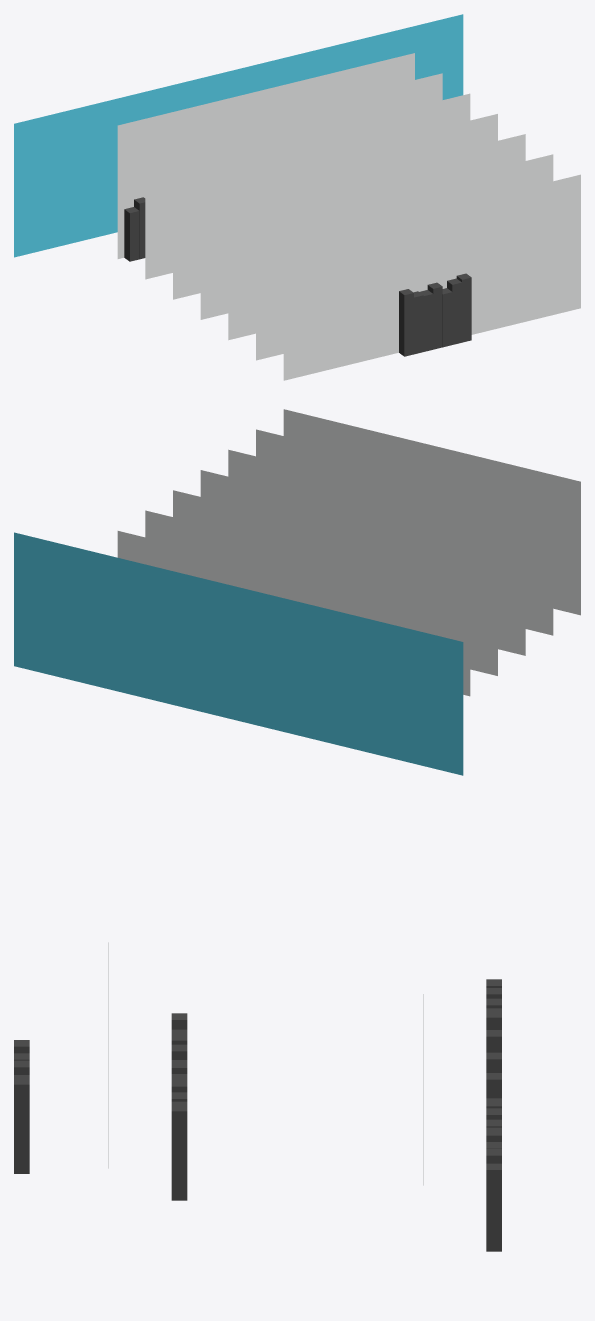
Rendered from asset.glb.
3 views of the same model, one above another, from view 1: azimuth 30°, elevation 25°; view 2: azimuth 150°, elevation 25°; view 3: azimuth 270°, elevation 25° (orthographic). The views are drawn at different scales.
Visible parts, largest first — view 1: 平面 12, 平面 7, 平面 16, 平面 17, 平面 13, 平面 14, 平面, 平面 15, 立方体 23, 立方体 29, 立方体 27, 立方体 20 (+5 smaller); view 2: 平面 7, 平面 13, 平面 14, 平面 12, 平面 16, 平面, 平面 17, 平面 15; view 3: 立方体 51, 立方体 27, 立方体 44.
Boxes of the visible parts, box(x1,y1,x2,y2) form: 平面 12: box(283, 174, 580, 380); 平面 7: box(14, 14, 463, 257); 平面 16: box(200, 114, 497, 319); 平面 17: box(145, 73, 442, 279); 平面 13: box(256, 154, 553, 360); 平面 14: box(228, 134, 525, 340); 平面: box(173, 93, 470, 299); 平面 15: box(117, 53, 414, 258); 立方体 23: box(399, 289, 413, 356); 立方体 29: box(124, 207, 139, 261); 立方体 27: box(456, 273, 471, 342); 立方体 20: box(427, 282, 442, 349); 平面 7: box(14, 532, 463, 775); 平面 13: box(256, 429, 553, 635); 平面 14: box(228, 449, 525, 655); 平面 12: box(283, 409, 580, 615); 平面 16: box(200, 470, 497, 675); 平面: box(173, 490, 470, 696); 平面 17: box(145, 510, 442, 636); 平面 15: box(117, 531, 414, 629); 立方体 51: box(171, 1104, 187, 1200); 立方体 27: box(14, 1078, 29, 1173); 立方体 44: box(486, 1163, 501, 1251).
Bounding box in the file's own units: 0.7031 × 0.2 × 0.54.
